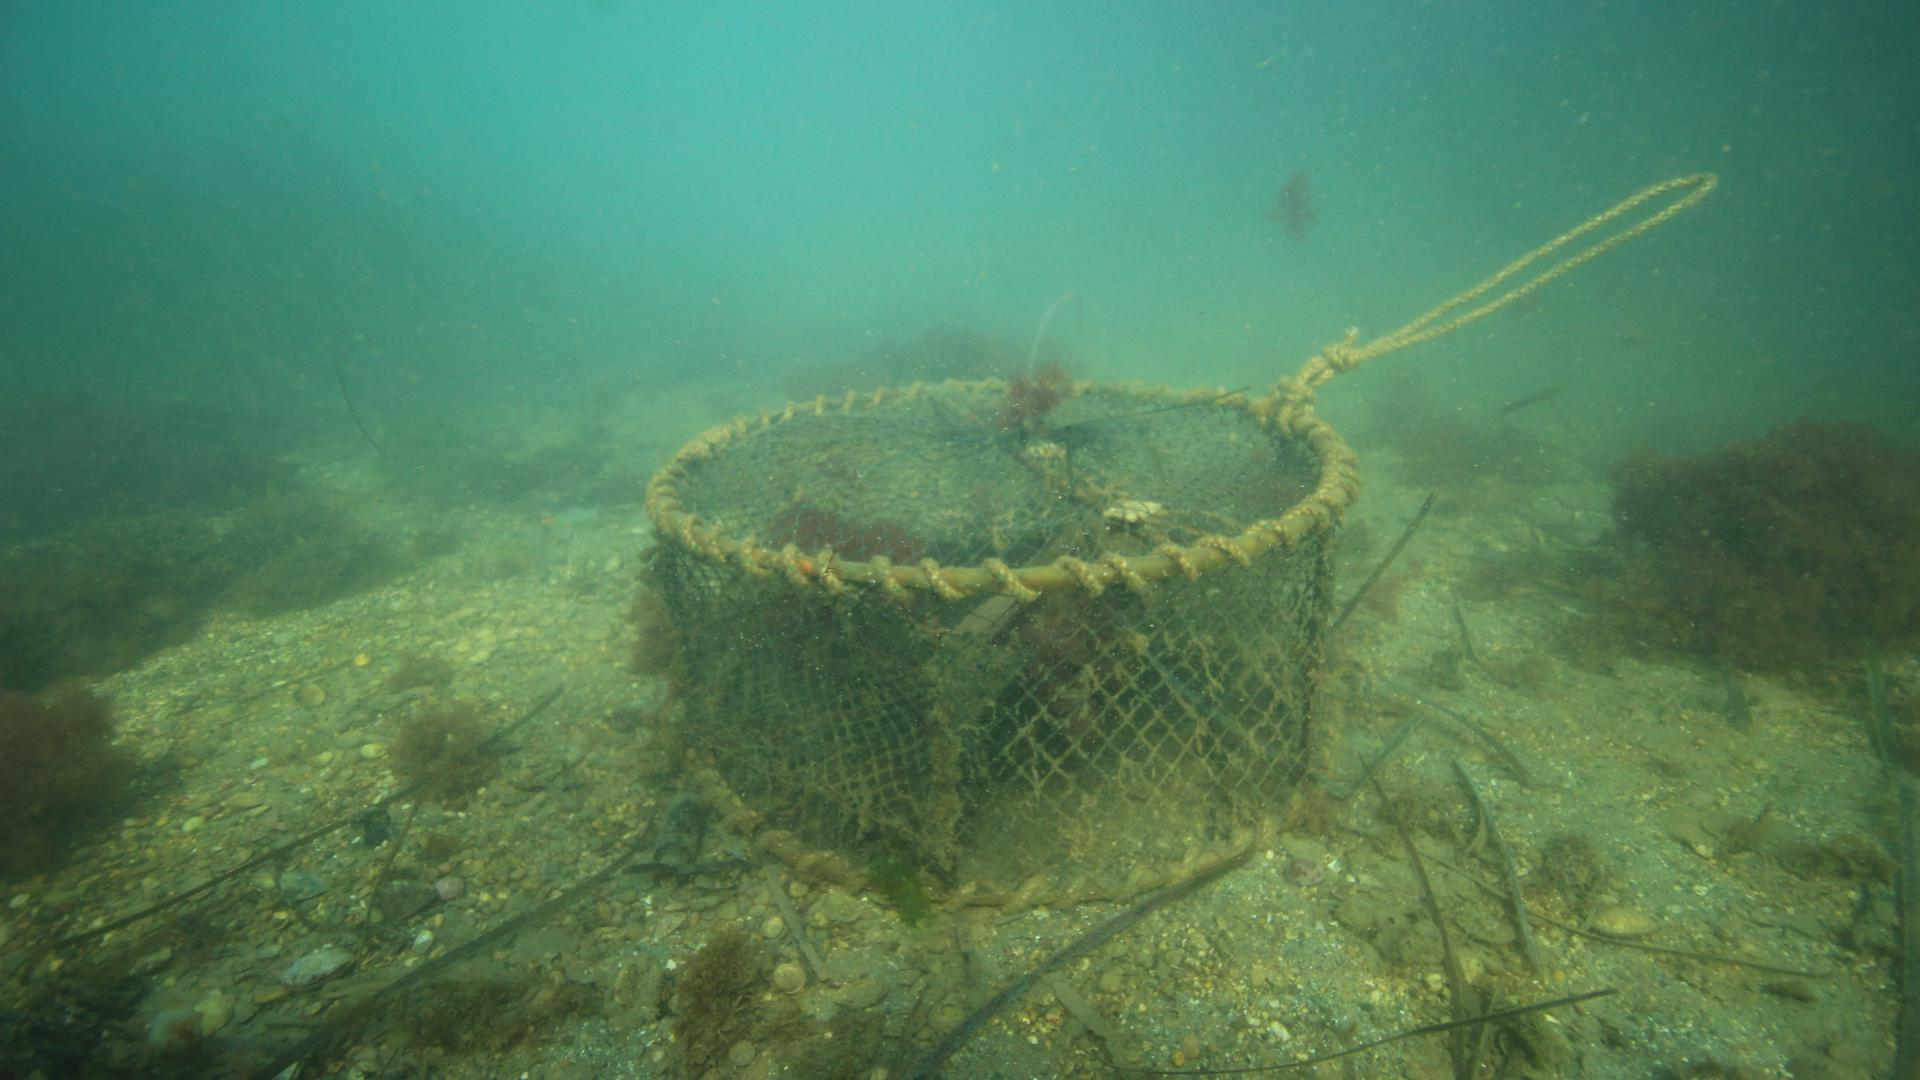circular fish trap: (644, 372, 1361, 911)
rope: (1287, 171, 1721, 390)
